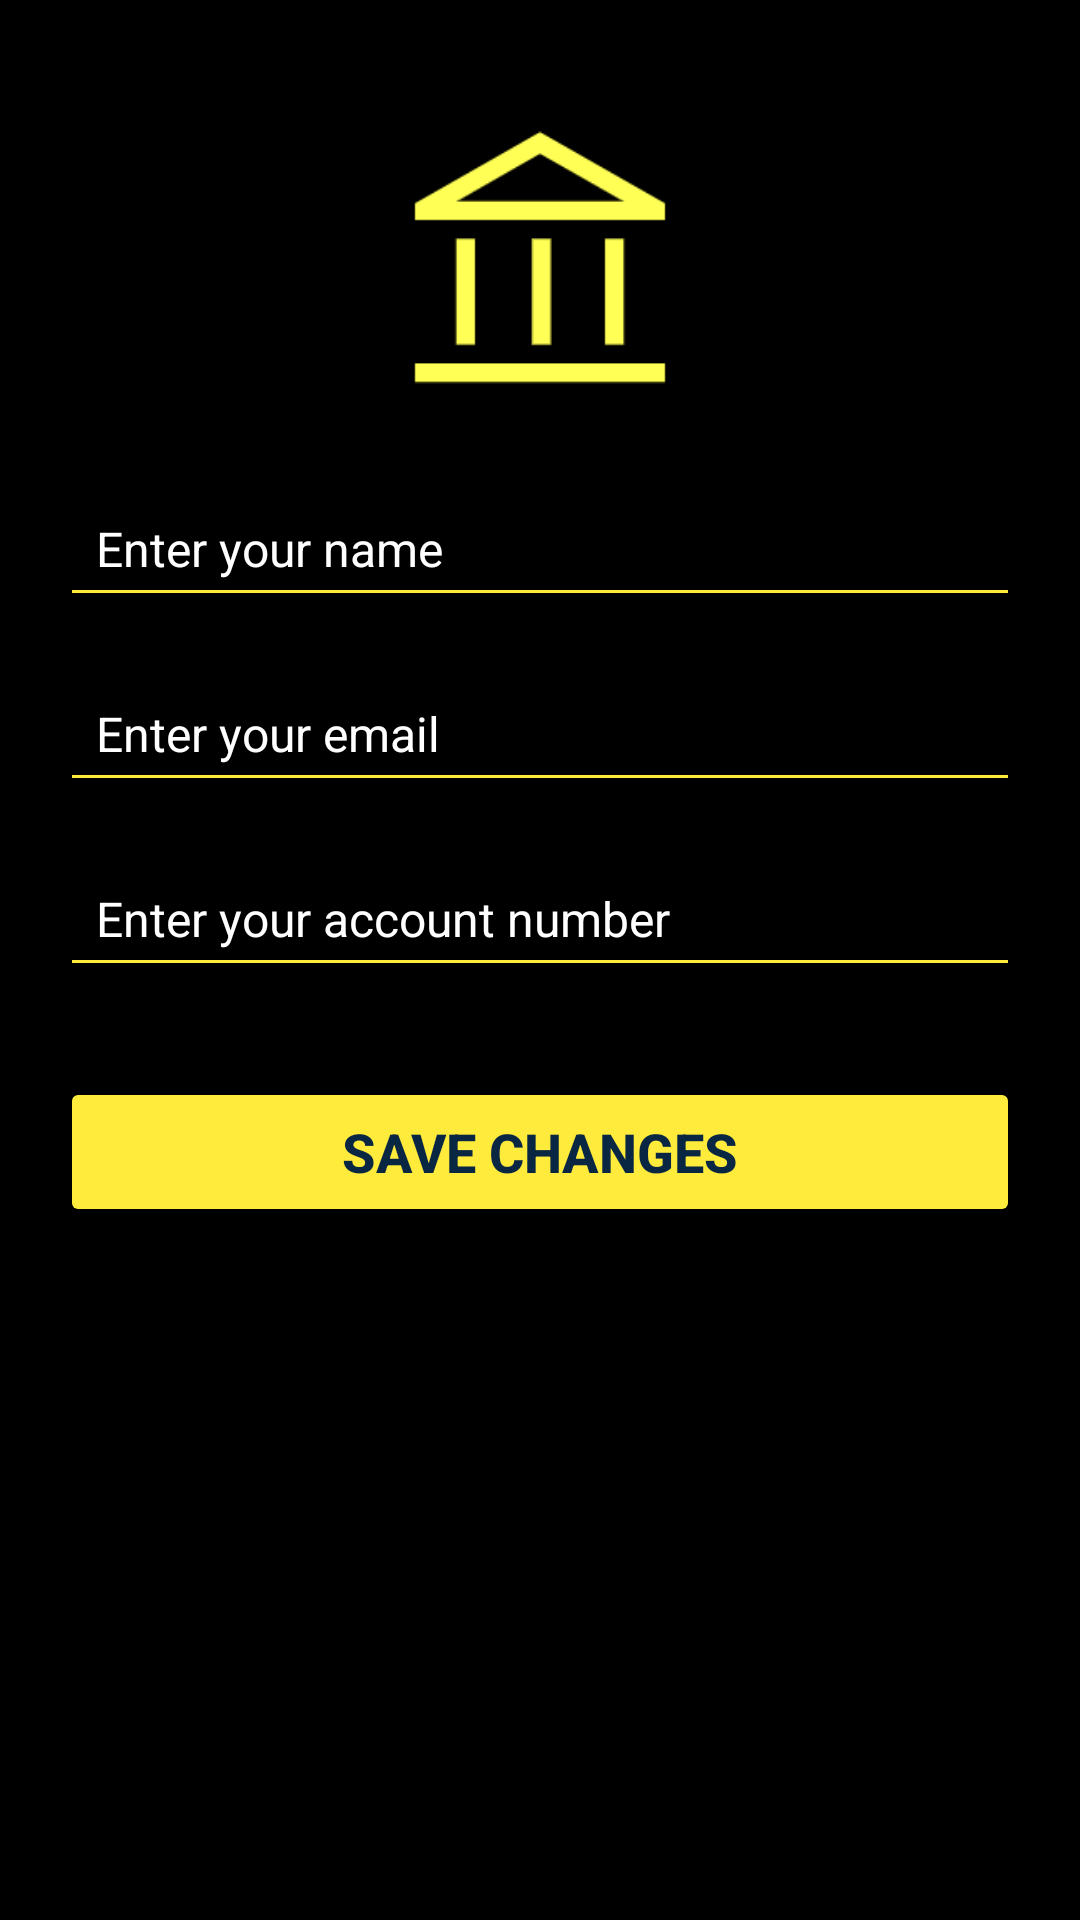

Named icons in this screenshot (1080×1920) and their bounding boxes, (x1, y1, x2, y2):
bank: (414, 131, 666, 384)
